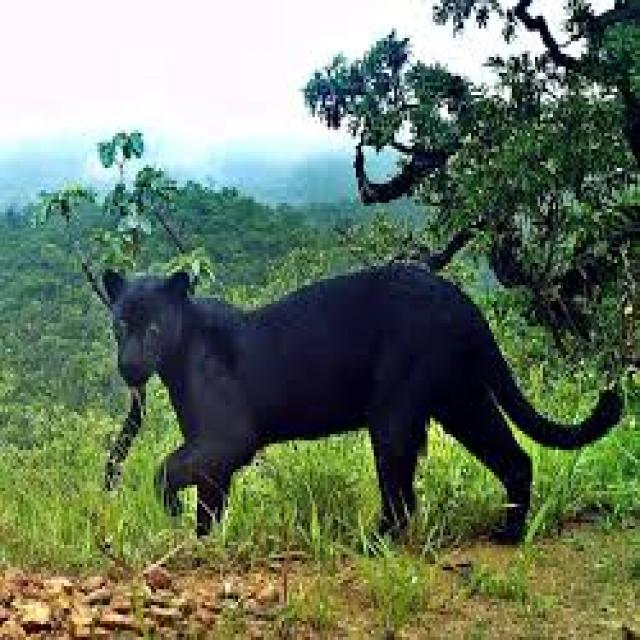Jaguar: (97, 263, 579, 542)
